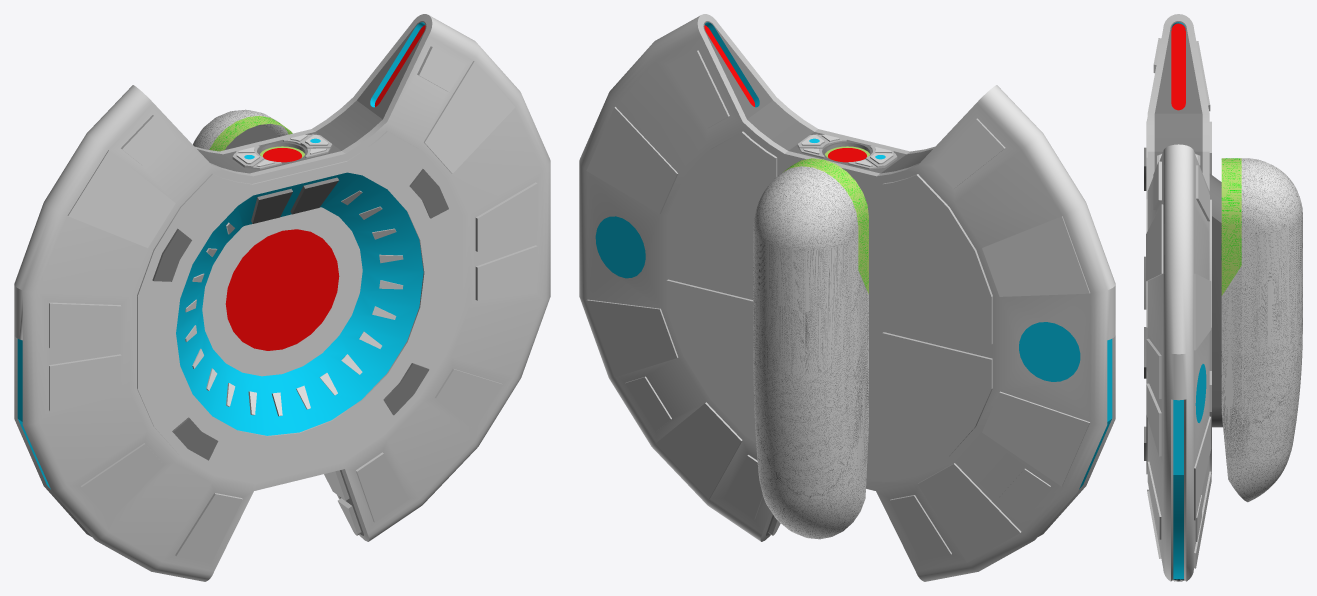
File: center.dae
3 views of the same model, side by side, from view 1: azimuth 30°, elevation 25°; view 2: azimuth 150°, elevation 25°; view 3: azimuth 270°, elevation 25° (orthographic). The views are drawn at different scales.
Parts seen in each view (by area): view 1: SketchUp_281; view 2: SketchUp_281; view 3: SketchUp_281.
Boxes of the visible parts, left/top/right/bottom form: SketchUp_281: left=14, top=14, right=550, bottom=581; SketchUp_281: left=579, top=14, right=1115, bottom=581; SketchUp_281: left=1144, top=14, right=1302, bottom=581.
Bounding box in the file's own units: 16.05 × 4.55 × 14.68.
